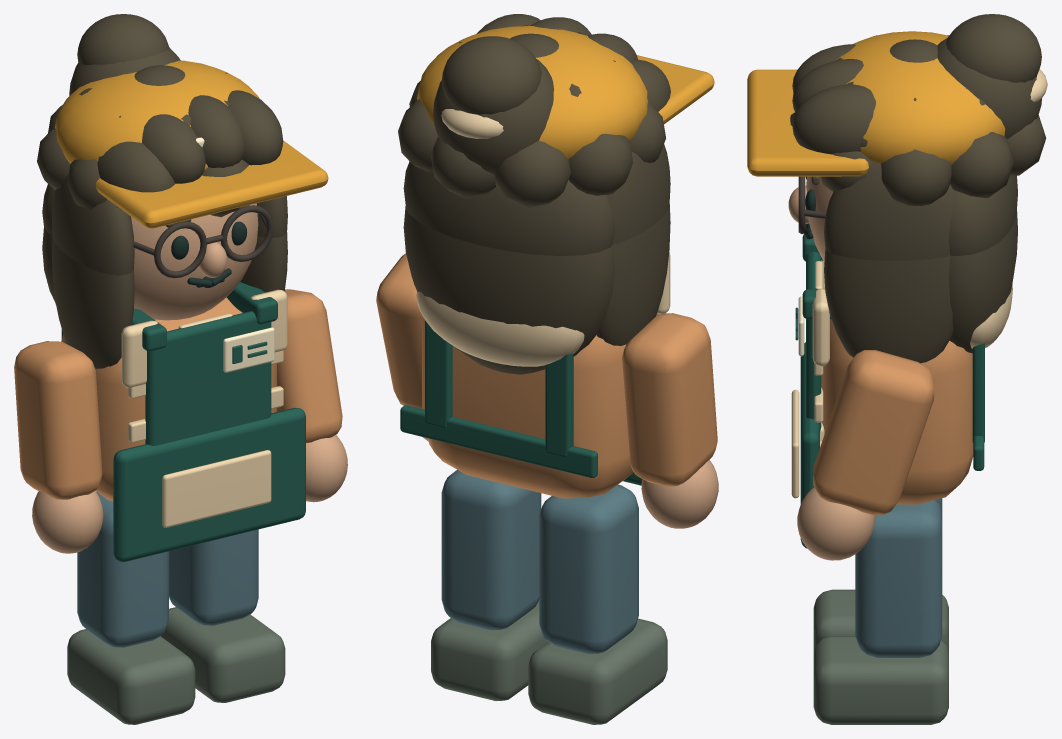
The model's file is wardrobe.glb.
The picture shows the model from 3 angles, left to right: view 1: azimuth 30°, elevation 25°; view 2: azimuth 150°, elevation 25°; view 3: azimuth 270°, elevation 25°; orthographic projection. The views are drawn at different scales.
Visible parts, largest first — view 1: apron.skirt, arm.mesh.left, apron.bib, uniform.hat, shoe.left, leg.mesh.left, uniform.brim, shoe.right, head, leg.mesh.right, arm.mesh.right, long.side (+27 smaller); view 2: body, long.back, leg.mesh.left, leg.mesh.right, arm.mesh.left, bob.back, uniform.hat, shoe.left, shoe.right, bun.top, hood.back, long.side (+19 smaller); view 3: arm.mesh.right, leg.mesh.right, uniform.hat, long.side.001, shoe.right, body, bob.side.001, uniform.brim, long.back, bun.top, sweep.lock.003, hand.right (+17 smaller).
Boxes of the visible parts, bbox=[...] form: apron.skirt: bbox=[113, 408, 305, 561]; arm.mesh.left: bbox=[14, 341, 102, 499]; apron.bib: bbox=[145, 311, 271, 445]; uniform.hat: bbox=[54, 60, 259, 169]; shoe.left: bbox=[67, 629, 195, 724]; leg.mesh.left: bbox=[77, 492, 168, 647]; uniform.brim: bbox=[95, 140, 328, 228]; shoe.right: bbox=[161, 607, 285, 702]; head: bbox=[131, 203, 258, 320]; leg.mesh.right: bbox=[169, 529, 258, 625]; arm.mesh.right: bbox=[277, 289, 342, 442]; long.side: bbox=[52, 238, 134, 368]; body: bbox=[422, 317, 633, 498]; long.back: bbox=[403, 206, 614, 374]; leg.mesh.left: bbox=[539, 484, 638, 653]; leg.mesh.right: bbox=[441, 469, 541, 630]; arm.mesh.left: bbox=[622, 313, 717, 486]; bob.back: bbox=[403, 161, 614, 255]; uniform.hat: bbox=[417, 26, 648, 159]; shoe.left: bbox=[528, 618, 667, 724]; shoe.right: bbox=[431, 599, 547, 700]; bun.top: bbox=[441, 36, 541, 114]; hood.back: bbox=[416, 291, 584, 366]; long.side: bbox=[596, 204, 670, 345]; arm.mesh.right: bbox=[813, 350, 934, 514]; leg.mesh.right: bbox=[855, 500, 942, 657]; uniform.hat: bbox=[837, 31, 1005, 164]; long.side.001: bbox=[824, 249, 953, 363]; shoe.right: bbox=[813, 636, 948, 724]; body: bbox=[821, 319, 973, 504]; bob.side.001: bbox=[824, 161, 953, 260]; uniform.brim: bbox=[747, 69, 868, 176]; long.back: bbox=[949, 210, 1017, 353]; bun.top: bbox=[946, 14, 1041, 82]; sweep.lock.003: bbox=[792, 84, 875, 154]; hand.right: bbox=[797, 487, 874, 560].
Bounding box in the file's own units: 0.5495 × 1.14 × 0.466.
